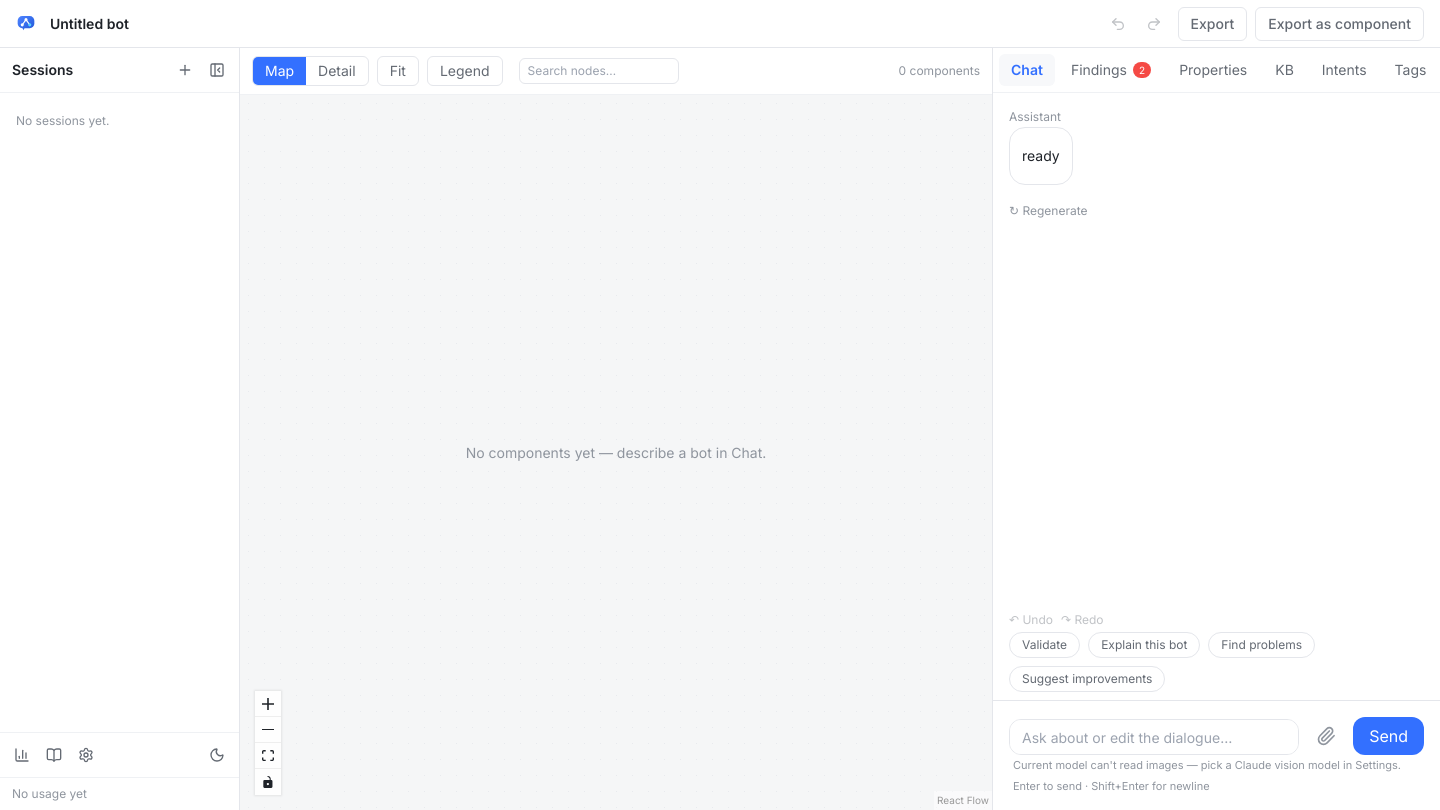
Scenario: App export gate › shows the confirm dialog on errors and aborts on cancel
Click the button "Export".
click(1212, 24)  # box [1178,6,1247,40]
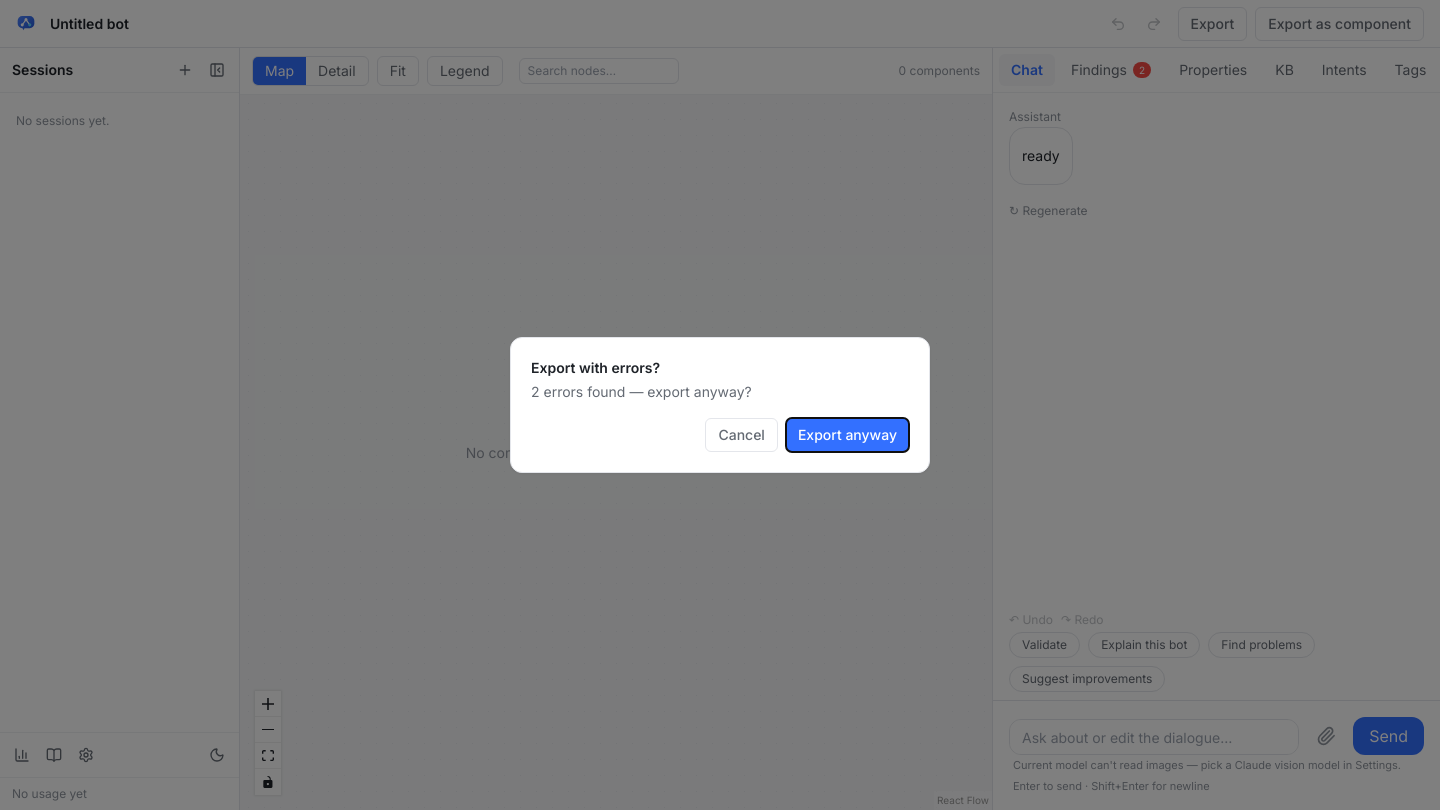
Click the button with test id "confirm-cancel".
click(742, 435)  # box [705,418,778,452]
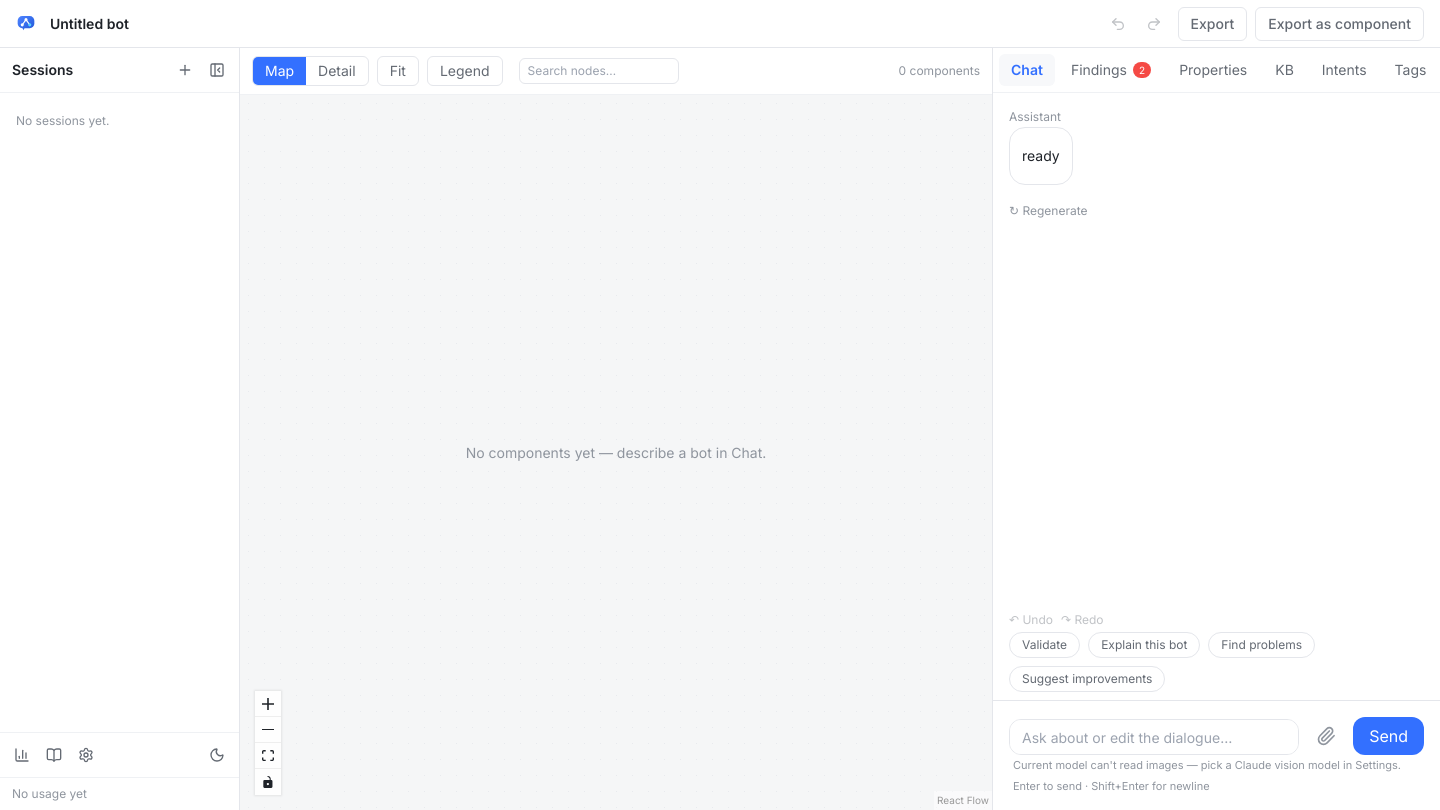
Check: the element with test id "confirm-dialog" is gone
